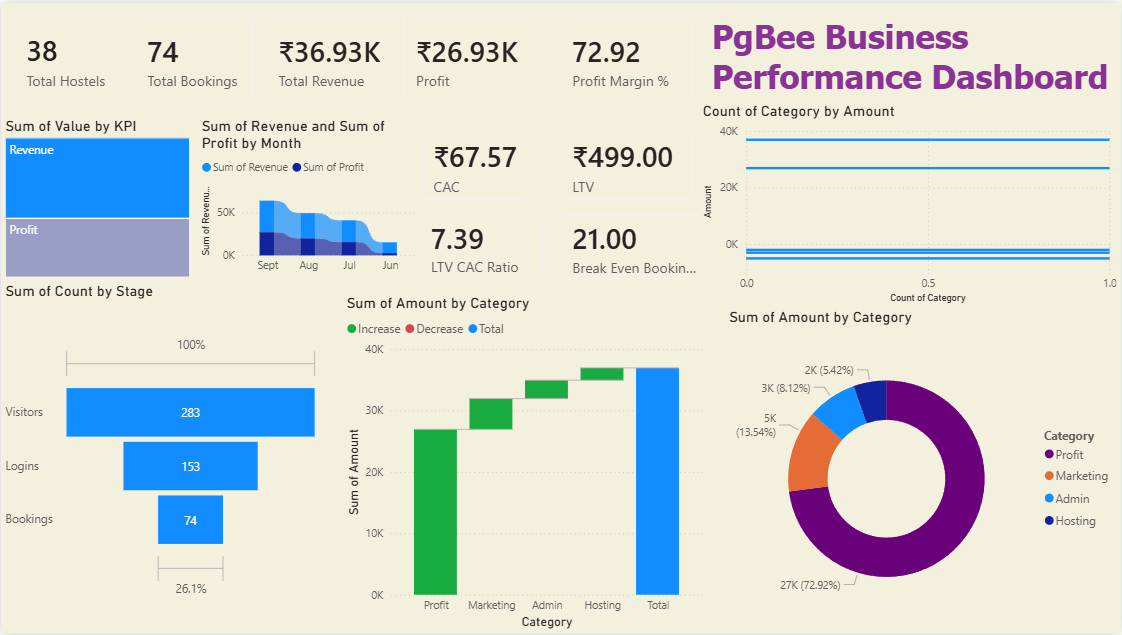

What the dashboard file says about the page in this screenshot:
{"tool":"powerbi","page":{"name":"Executive Overview","canvas":[1280,720],"ordinal":0},"visuals":[{"type":"cardVisual","fields":{"Data":["bookings.Total Revenue"]},"box":[287.1,0,191.4,130],"z":0},{"type":"cardVisual","fields":{"Data":["hostels.Total Hostels"]},"box":[0,0,150,130],"z":1000},{"type":"cardVisual","fields":{"Data":["bookings.Total Bookings"]},"box":[137.1,0,168.6,130],"z":2000},{"type":"cardVisual","fields":{"Data":["bookings.Profit"]},"box":[444.3,0,178.6,130],"z":3000},{"type":"cardVisual","fields":{"Data":["bookings.Profit Margin %"]},"box":[622.9,0,184.3,130],"z":4000},{"type":"cardVisual","fields":{"Data":["bookings.CAC"]},"box":[464.3,130,158.6,111.4],"z":5000},{"type":"cardVisual","fields":{"Data":["bookings.LTV"]},"box":[622.9,130,184.3,111.4],"z":6000},{"type":"cardVisual","fields":{"Data":["bookings.LTV CAC Ratio"]},"box":[461.4,227.1,175.7,102.9],"z":7000},{"type":"cardVisual","fields":{"Data":["bookings.Break Even Bookings"]},"box":[622.9,224.3,204.3,108.6],"z":8000},{"type":"treemap","fields":{"Values":["Sum(Business_KPI.Value)"],"Group":["Business_KPI.KPI"]},"box":[0,130,221.4,188.6],"z":9000},{"type":"clusteredBarChart","fields":{"Category":["Amount.Amount"],"Y":["CountNonNull(Amount.Category)"]},"box":[797.1,112.9,482.9,235.7],"z":10000},{"type":"donutChart","fields":{"Category":["Revenue_Breakdown.Category"],"Y":["Sum(Revenue_Breakdown.Amount)"]},"box":[827.1,348.6,452.9,371.4],"z":11000},{"type":"funnel","fields":{"Category":["Booking_Funnel.Stage"],"Y":["Sum(Booking_Funnel.Count)"]},"box":[0,318.6,368.6,401.4],"z":12000},{"type":"ribbonChart","fields":{"Category":["Revenue_Profit_Trend.Month"],"Y":["Sum(Revenue_Profit_Trend.Revenue)","Sum(Revenue_Profit_Trend.Profit)"]},"box":[224.3,130,254.3,188.6],"z":13000},{"type":"waterfallChart","fields":{"Category":["Revenue_Breakdown.Category"],"Y":["Sum(Revenue_Breakdown.Amount)"]},"box":[390,332.9,417.1,387.1],"z":14000},{"type":"textbox","box":[807.1,10,472.9,120],"z":14001}]}

Visuals, with their boxes in screenshot pixels (x1, y1, x2, y2), scaled from the page's 1280x720 canvas onto the 1122x635 screenshot:
cardVisual - bookings.Total Revenue: [x1=252, y1=0, x2=419, y2=115]
cardVisual - hostels.Total Hostels: [x1=0, y1=0, x2=131, y2=115]
cardVisual - bookings.Total Bookings: [x1=120, y1=0, x2=268, y2=115]
cardVisual - bookings.Profit: [x1=389, y1=0, x2=546, y2=115]
cardVisual - bookings.Profit Margin %: [x1=546, y1=0, x2=708, y2=115]
cardVisual - bookings.CAC: [x1=407, y1=115, x2=546, y2=213]
cardVisual - bookings.LTV: [x1=546, y1=115, x2=708, y2=213]
cardVisual - bookings.LTV CAC Ratio: [x1=404, y1=200, x2=558, y2=291]
cardVisual - bookings.Break Even Bookings: [x1=546, y1=198, x2=725, y2=294]
treemap - Sum(Business_KPI.Value) x Business_KPI.KPI: [x1=0, y1=115, x2=194, y2=281]
clusteredBarChart - Amount.Amount x CountNonNull(Amount.Category): [x1=699, y1=100, x2=1121, y2=307]
donutChart - Revenue_Breakdown.Category x Sum(Revenue_Breakdown.Amount): [x1=725, y1=307, x2=1121, y2=634]
funnel - Booking_Funnel.Stage x Sum(Booking_Funnel.Count): [x1=0, y1=281, x2=323, y2=634]
ribbonChart - Revenue_Profit_Trend.Month x Sum(Revenue_Profit_Trend.Revenue): [x1=197, y1=115, x2=420, y2=281]
waterfallChart - Revenue_Breakdown.Category x Sum(Revenue_Breakdown.Amount): [x1=342, y1=294, x2=707, y2=634]
textbox: [x1=707, y1=9, x2=1121, y2=115]
